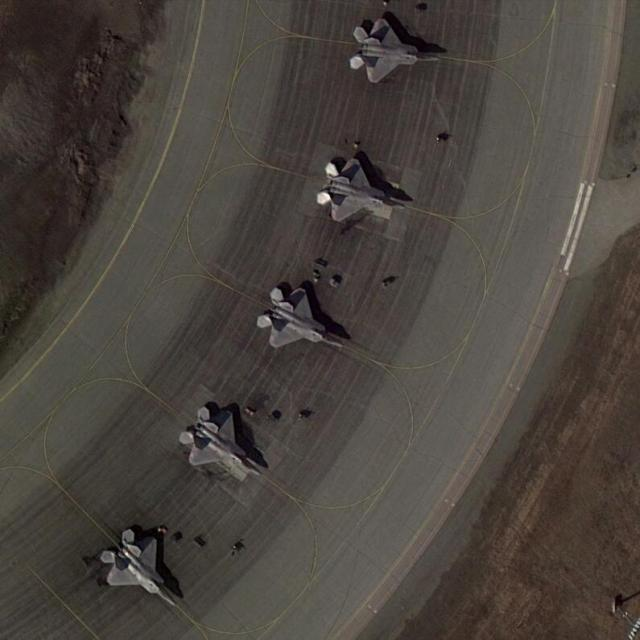fighter jet: (177, 398, 271, 490), (252, 276, 344, 362), (315, 149, 403, 236), (345, 7, 429, 88), (96, 525, 176, 605)
